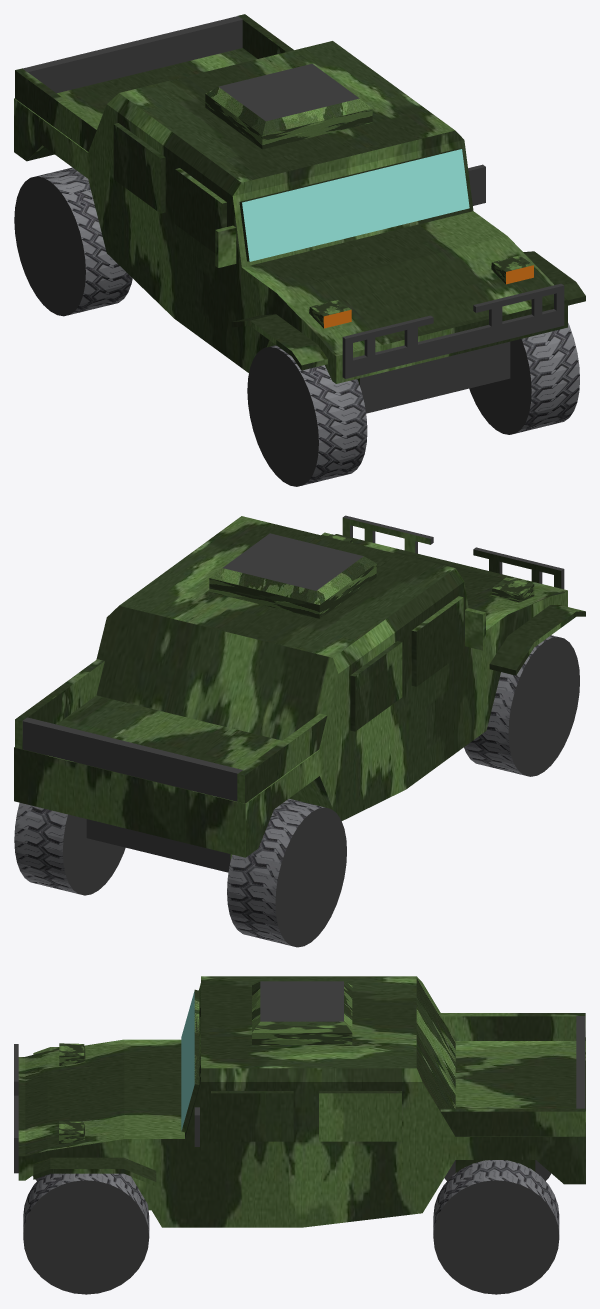
File: cars.fbx
3 renders of one model, top to bottom at view 1: azimuth 30°, elevation 25°; view 2: azimuth 150°, elevation 25°; view 3: azimuth 270°, elevation 25°, orthographic. The views are drawn at different scales.
Parts seen in each view (by area): view 1: Cube, Cylinder, Cylinder.001; view 2: Cube, Cylinder.001, Cylinder; view 3: Cube, Cylinder.001, Cylinder.
Boxes of the visible parts, x1,y1,x2,y2 form: Cube: [14, 14, 585, 413]; Cylinder: [247, 323, 579, 486]; Cylinder.001: [14, 167, 132, 316]; Cube: [14, 515, 585, 872]; Cylinder.001: [14, 798, 346, 947]; Cylinder: [464, 635, 579, 776]; Cube: [14, 976, 585, 1227]; Cylinder.001: [433, 1160, 559, 1294]; Cylinder: [23, 1173, 149, 1294].
Size of the model in its own units: 535 by 482 by 1059.
Materials: 5 (2 with a texture image).
